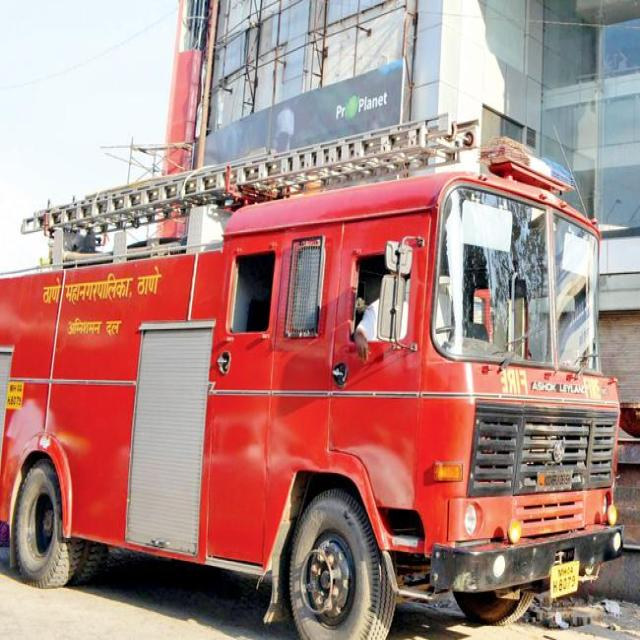emergency: (0, 118, 622, 640)
